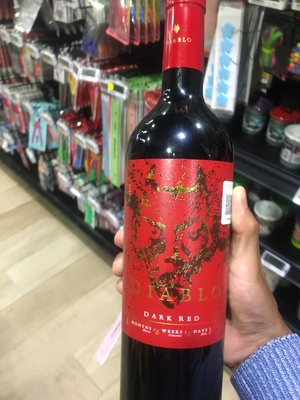diablo dark red: (118, 19, 246, 393)
